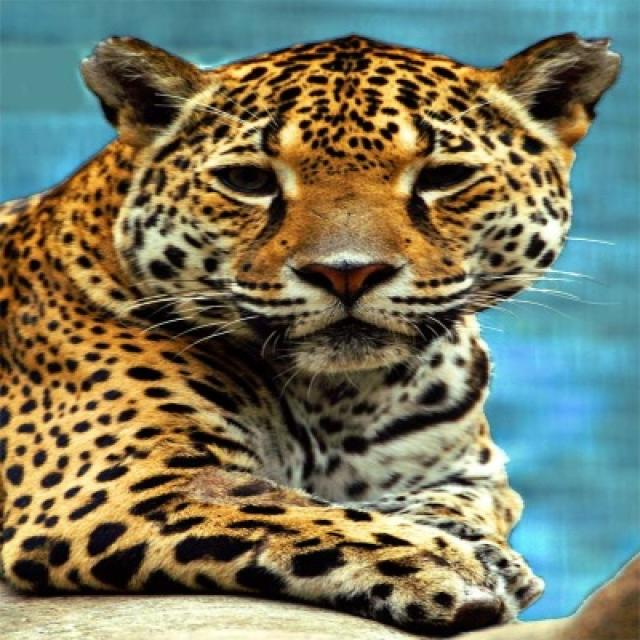Jaguar: (0, 32, 624, 638)
